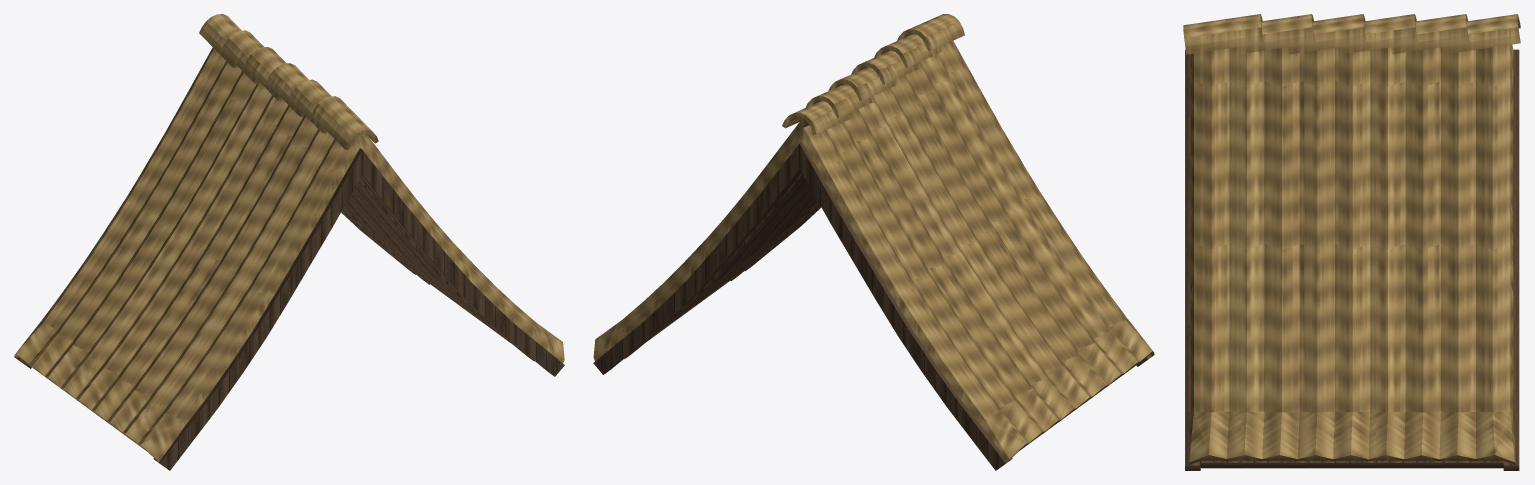
File: Roof_Thatch_6x4.gltf
3 renders of one model, left to right at view 1: azimuth 30°, elevation 25°; view 2: azimuth 150°, elevation 25°; view 3: azimuth 270°, elevation 25°, orthographic. The views are drawn at different scales.
Parts seen in each view (by area): view 1: Roof_Thatch_6x4; view 2: Roof_Thatch_6x4; view 3: Roof_Thatch_6x4.
Boxes of the visible parts, x1,y1,x2,y2 form: Roof_Thatch_6x4: (14,14,564,470); Roof_Thatch_6x4: (593,14,1154,470); Roof_Thatch_6x4: (1183,14,1520,470).
Bounding box in the file's own units: 8.25 × 5.67 × 4.99.
Materials: 2 (2 with a texture image).
